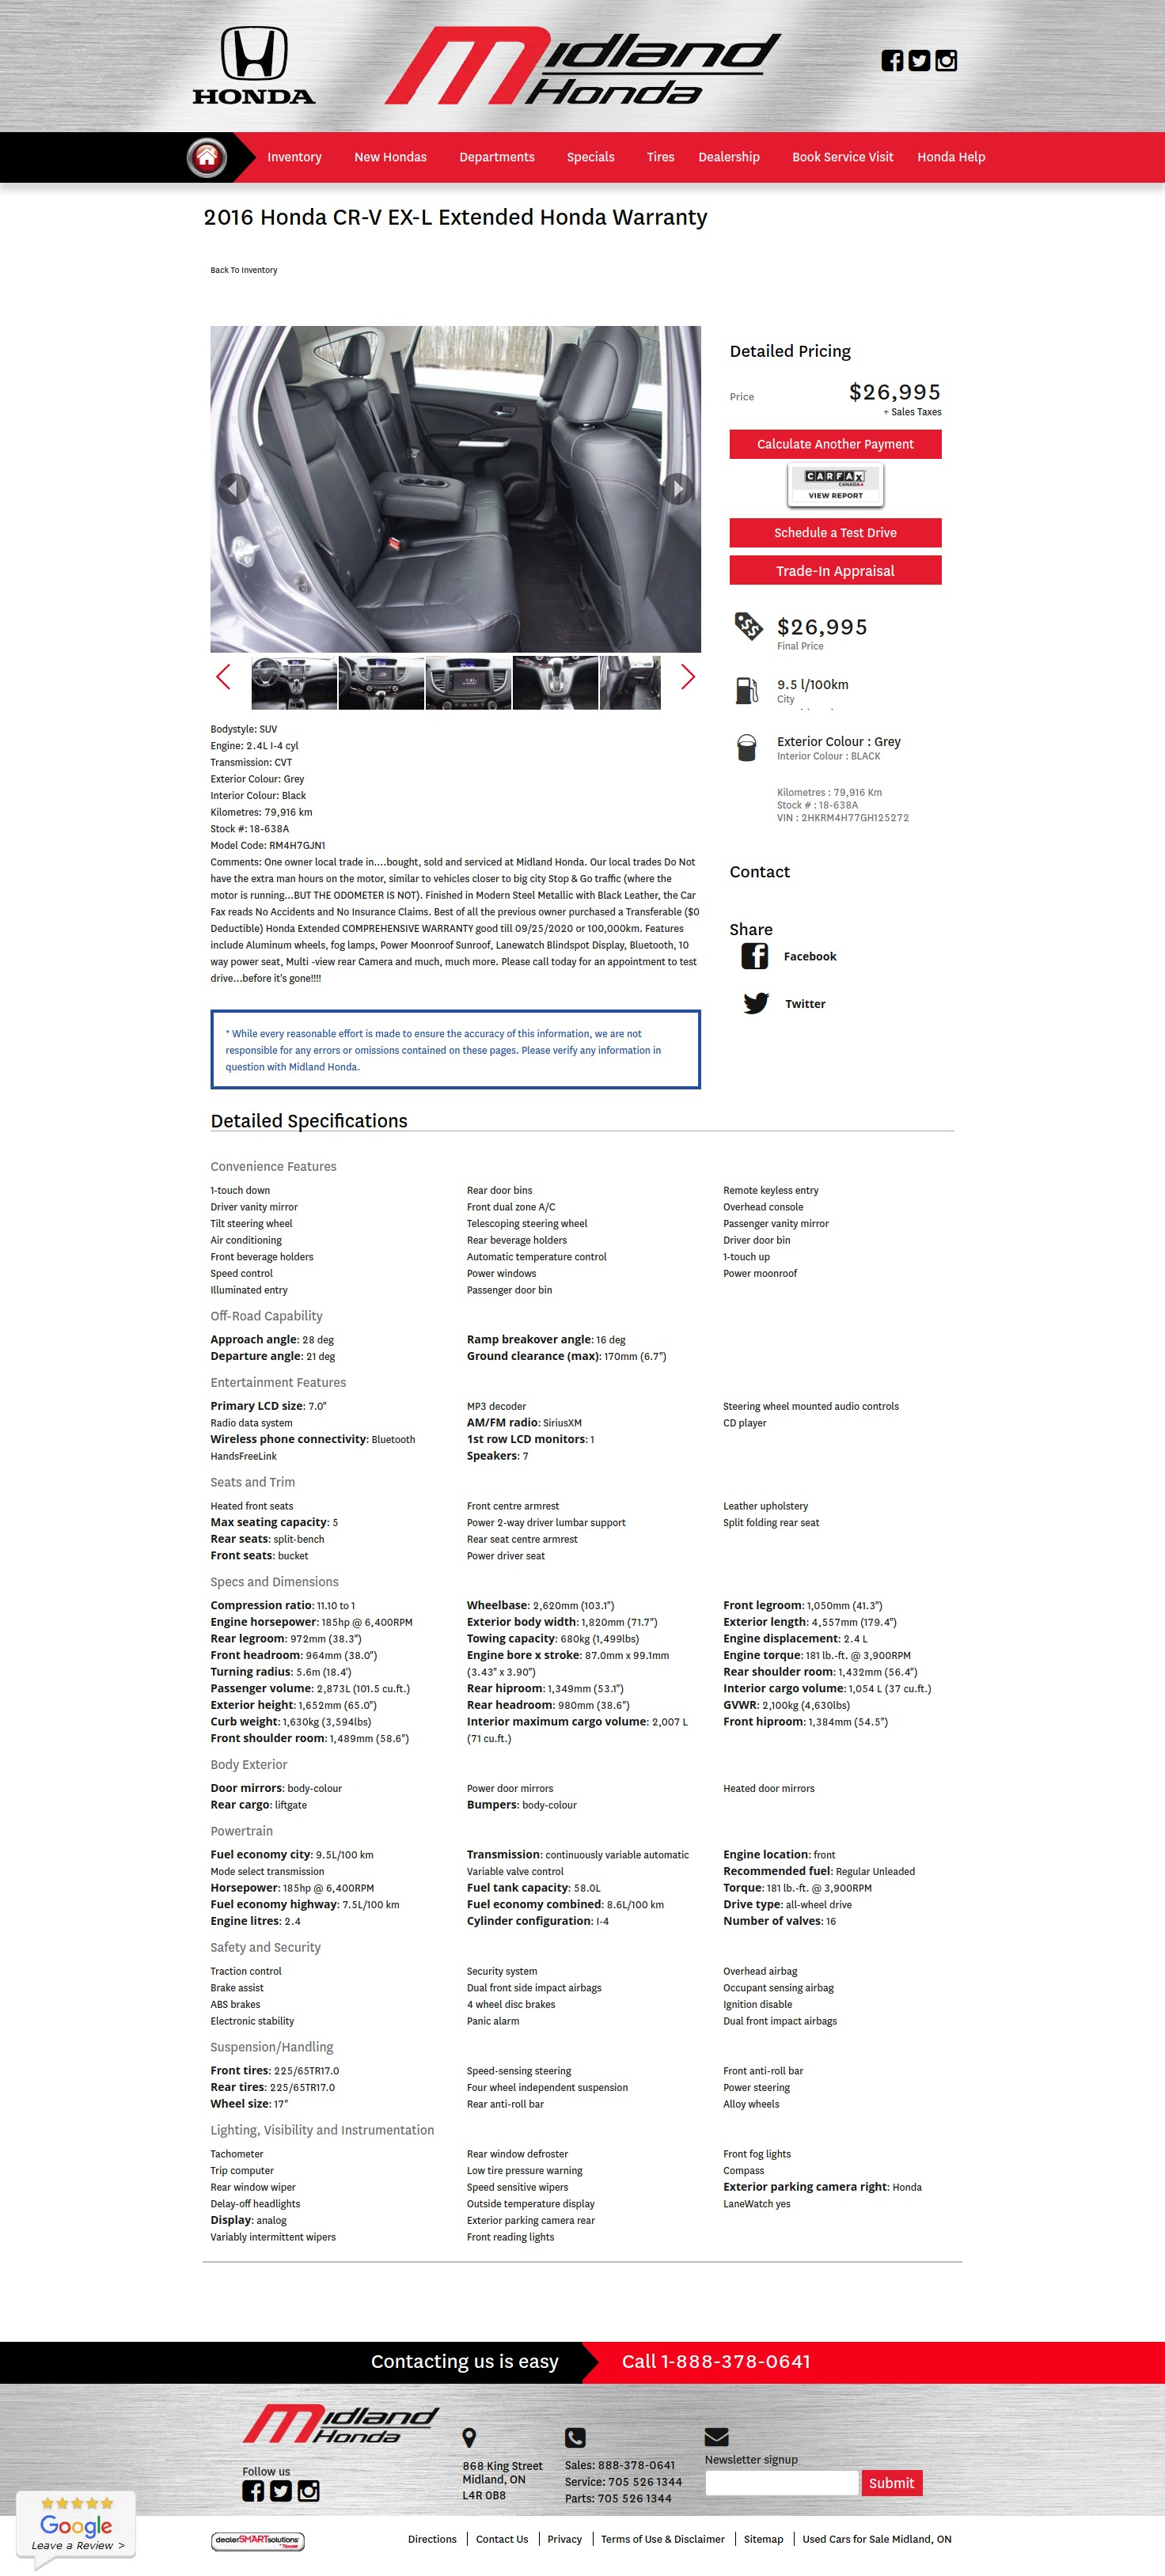car: (680, 664, 697, 692)
